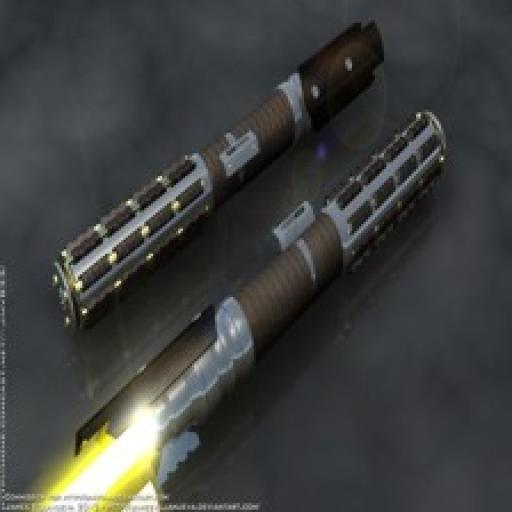lightsaber: (4, 110, 446, 512), (51, 18, 384, 332)
